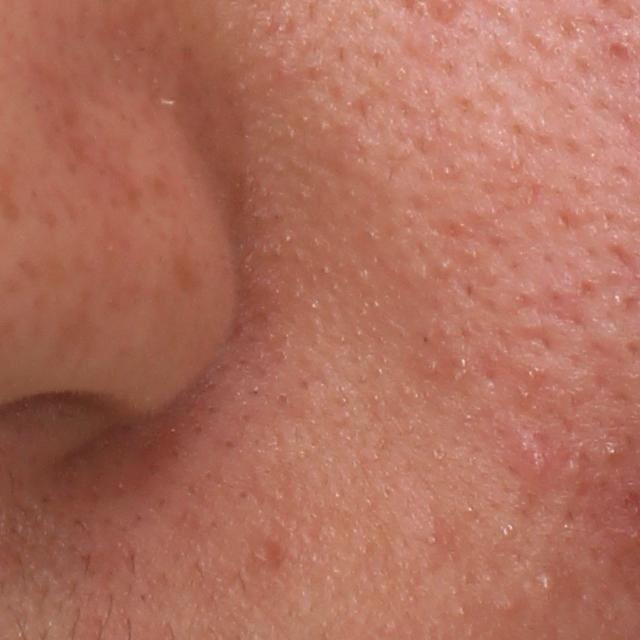comedo: (498, 593, 521, 618), (538, 572, 560, 597), (605, 440, 625, 463), (433, 259, 452, 278)
papule: (520, 440, 558, 480)
